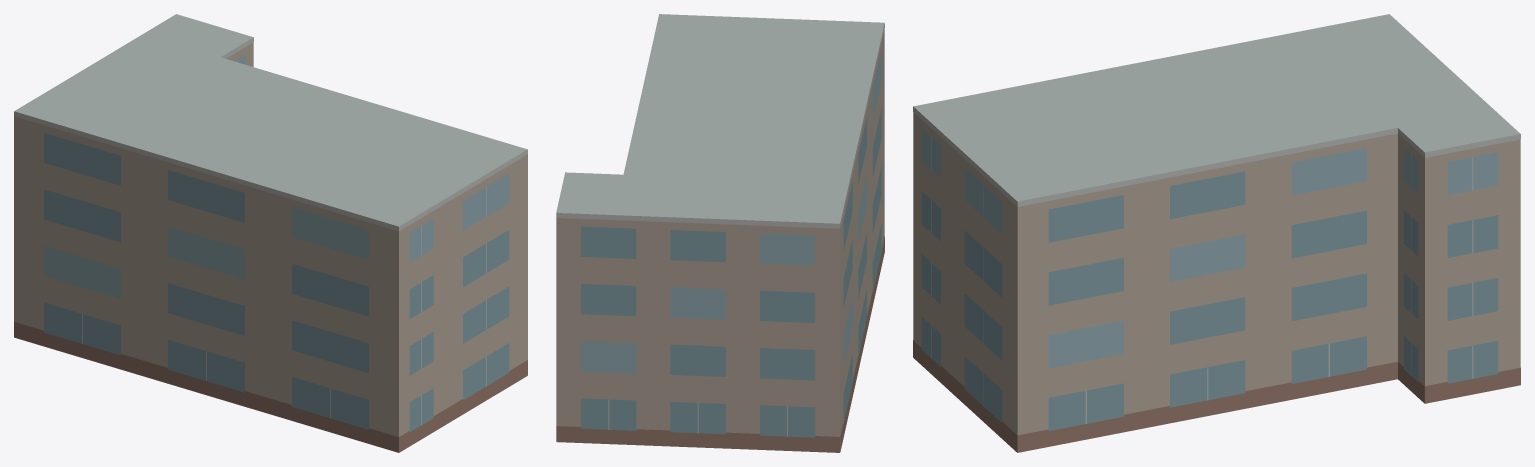
File: survey-upis-32620426.glb
3 views of the same model, side by side, from view 1: azimuth 30°, elevation 25°; view 2: azimuth 150°, elevation 25°; view 3: azimuth 270°, elevation 25° (orthographic). The views are drawn at different scales.
Parts seen in each view (by area): view 1: survey-upis-32620426.tmp; view 2: survey-upis-32620426.tmp; view 3: survey-upis-32620426.tmp.
Boxes of the visible parts, left/top/right/bottom form: survey-upis-32620426.tmp: left=14, top=14, right=527, bottom=452; survey-upis-32620426.tmp: left=556, top=14, right=884, bottom=452; survey-upis-32620426.tmp: left=913, top=14, right=1520, bottom=452.
Bounding box in the file's own units: 17.98 × 11.22 × 24.6.
